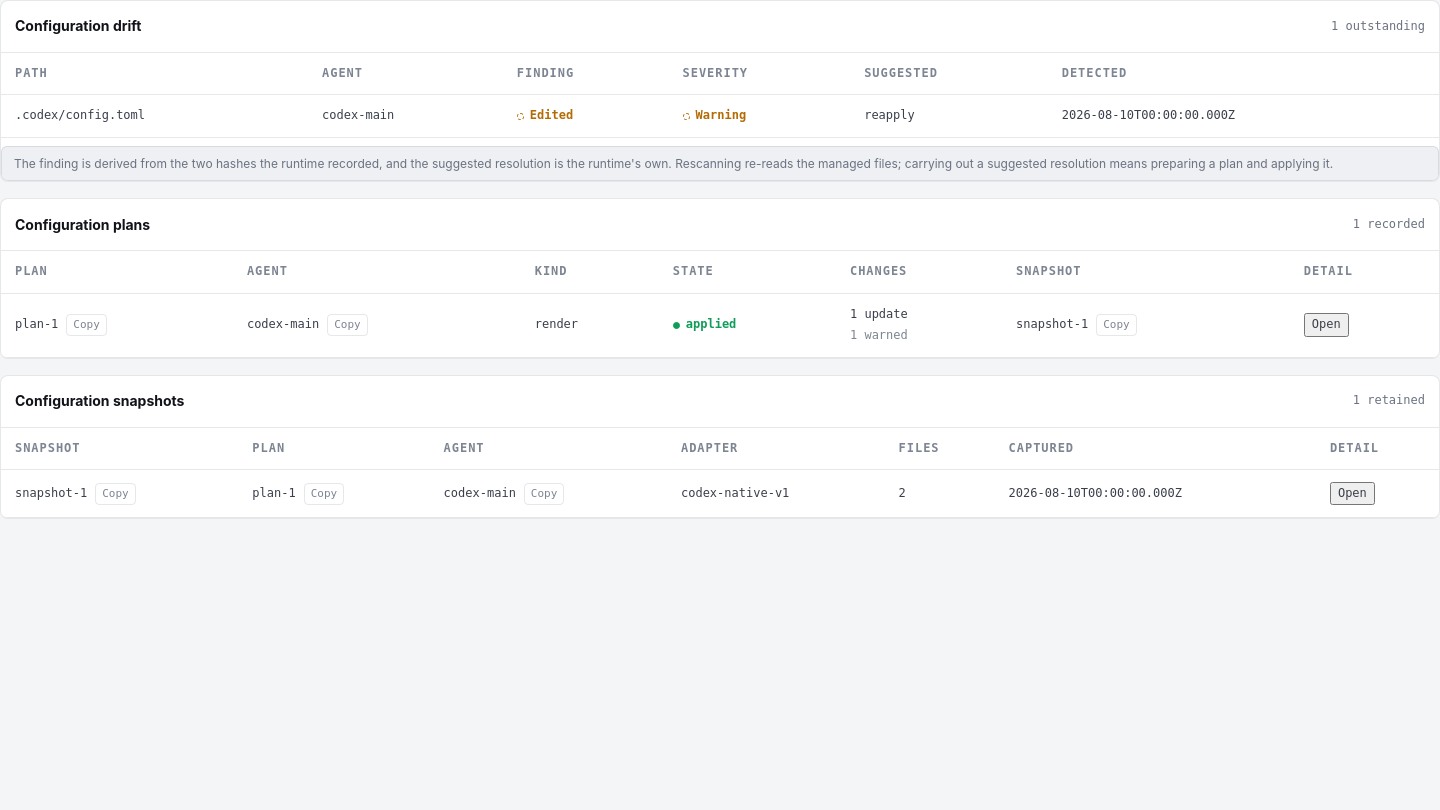
Scenario: ConfigView › marks a snapshot file the apply created, because rolling it back is a delete
Step 1. Click the button with aria-label "Open snapshot-1" → (1352, 494), box [1330,482,1375,505]
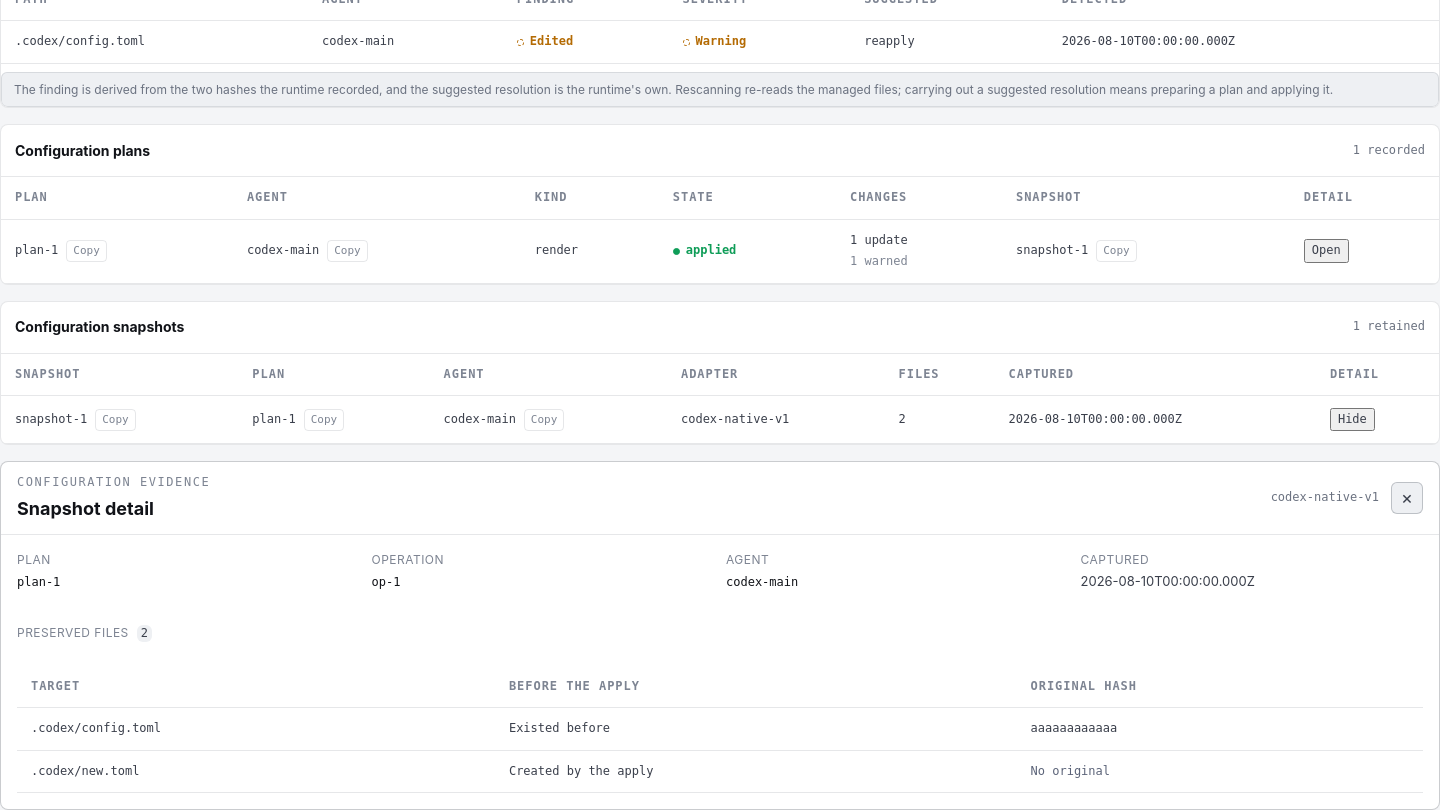
Expected: the text "Created by the apply" is shown, [495,750,1016,793]
Expected: the text "Existed before" is shown, [495,708,1016,750]
